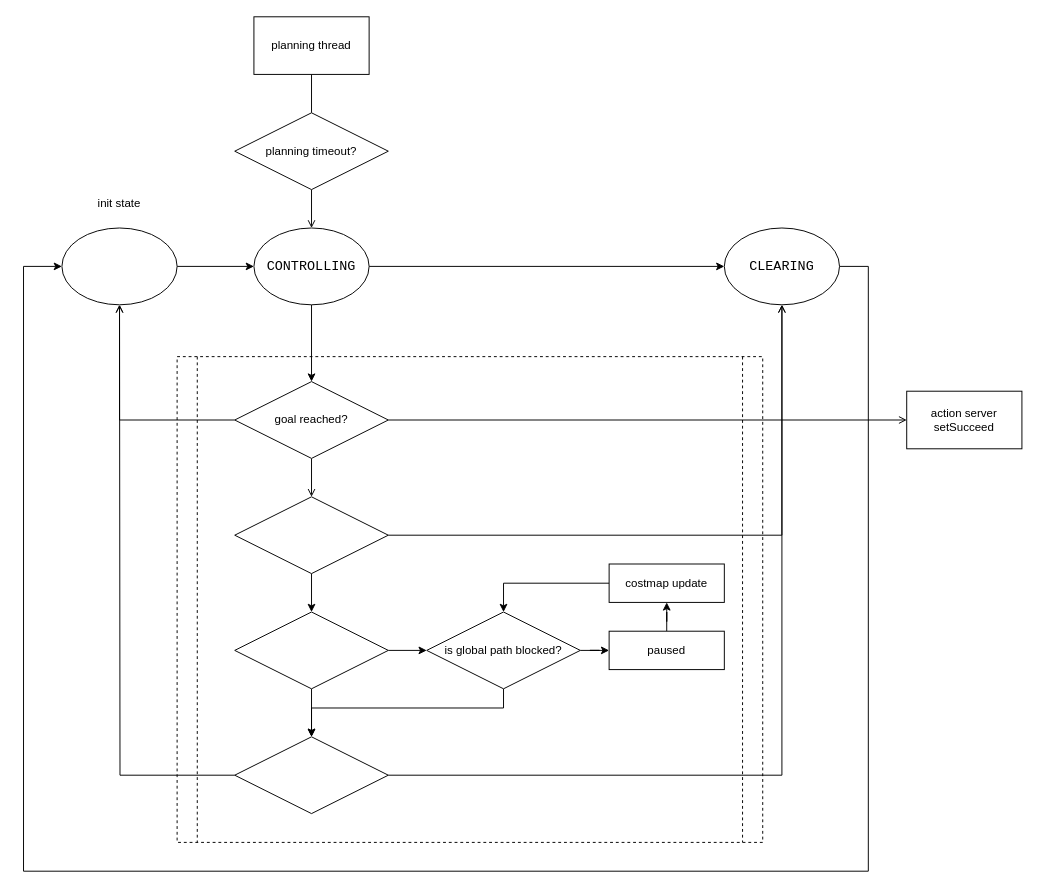
Image size: 1039x896. Some labels were removed from this diagram. Each missing label, with the box of its shape:
oscillation timeout?: (234, 496, 388, 574)
PLANNING: (61, 227, 177, 305)
planning failed?: (234, 611, 388, 689)
replanning timeout?: (234, 736, 388, 814)
